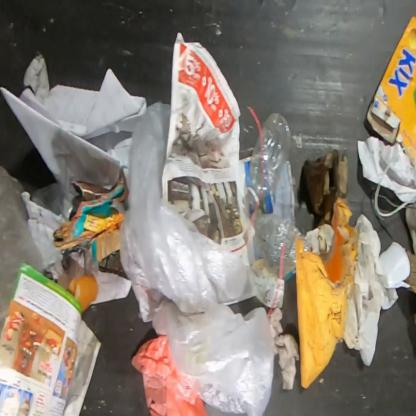cardboard: (295, 199, 360, 389), (366, 16, 415, 173), (54, 176, 130, 264), (302, 150, 349, 228)
rigid_plastic: (242, 111, 294, 212), (254, 212, 309, 280)
soft_plastic: (119, 102, 278, 415), (0, 164, 46, 322)
